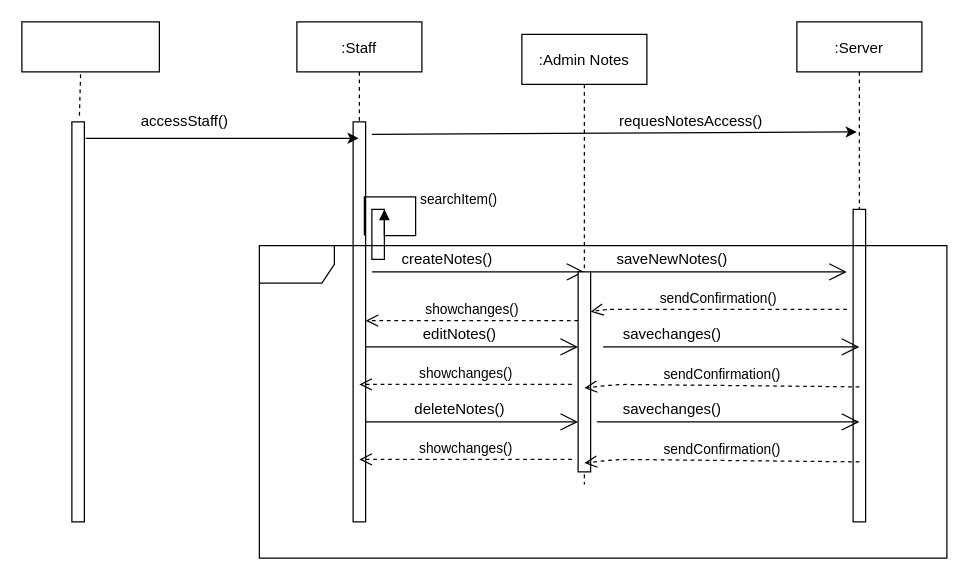
This 969x580 diagram has some shape labels left out. The shapes that lost their labels are listed below. From the top down, each one's centre as x and y in pixels, then its label:
point 90,46: :Admin Page
point 602,401: frame
